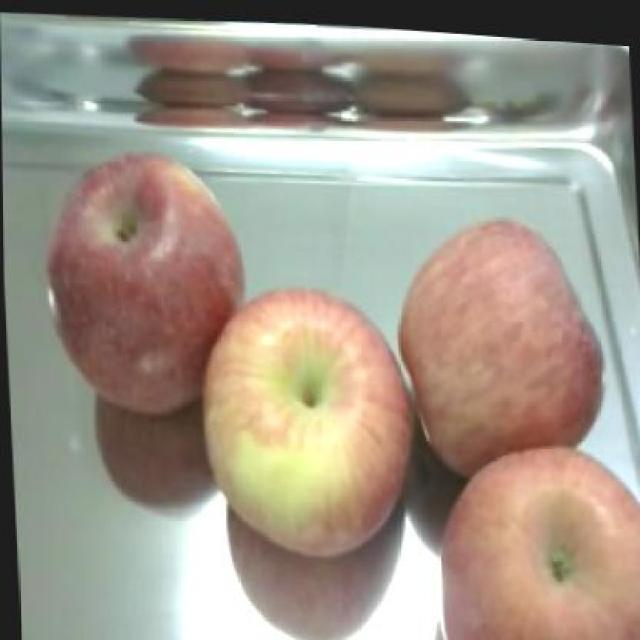Fresh Apple: (389, 228, 608, 474), (44, 154, 236, 423), (220, 294, 412, 560), (454, 461, 640, 640)
